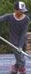gloves: (16, 23, 31, 41)
hard-hat: (16, 0, 31, 12)
